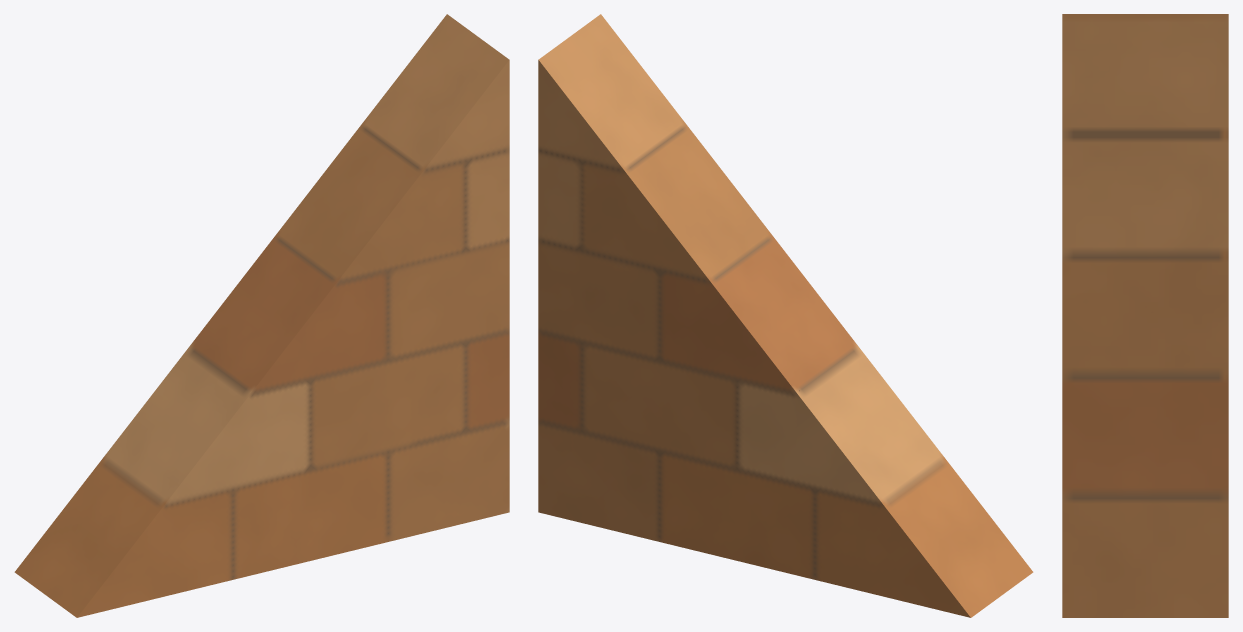
The picture shows the model from 3 angles, left to right: view 1: azimuth 30°, elevation 25°; view 2: azimuth 150°, elevation 25°; view 3: azimuth 270°, elevation 25°; orthographic projection. The views are drawn at different scales.
Visible parts, largest first — view 1: ss11-sandstone-gable-rising; view 2: ss11-sandstone-gable-rising; view 3: ss11-sandstone-gable-rising.
Part boxes in pixels (<box>): ss11-sandstone-gable-rising: <box>14,14,509,617</box>; ss11-sandstone-gable-rising: <box>538,14,1033,617</box>; ss11-sandstone-gable-rising: <box>1062,14,1228,617</box>.
Size of the model in its own units: 200 by 200 by 50.
